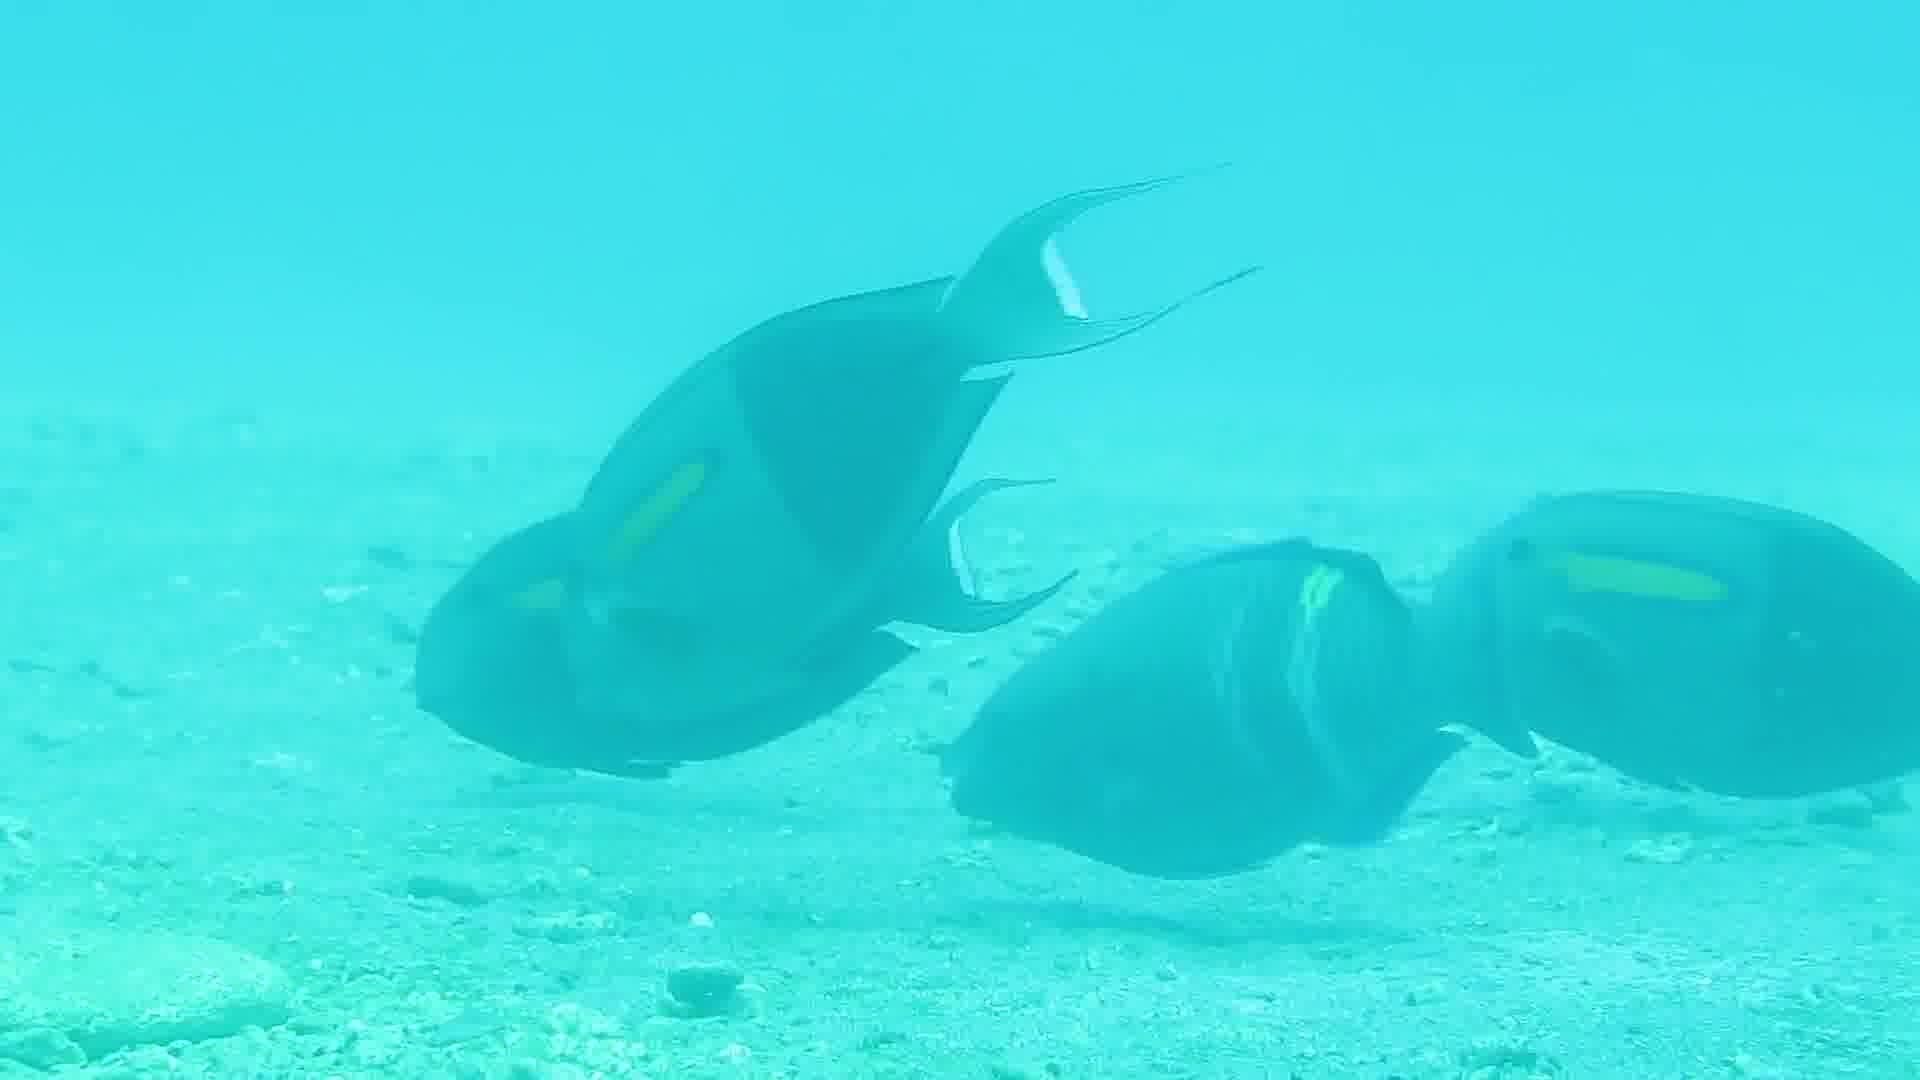Acanthurus olivaceus: (360, 157, 1191, 804), (934, 492, 1498, 905), (1455, 450, 1920, 818)
